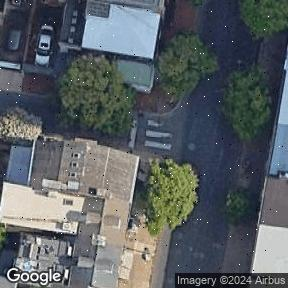vegetation: (53, 53, 138, 137), (142, 25, 222, 104), (146, 157, 199, 236), (220, 64, 273, 142), (227, 192, 247, 216), (0, 224, 7, 251)
